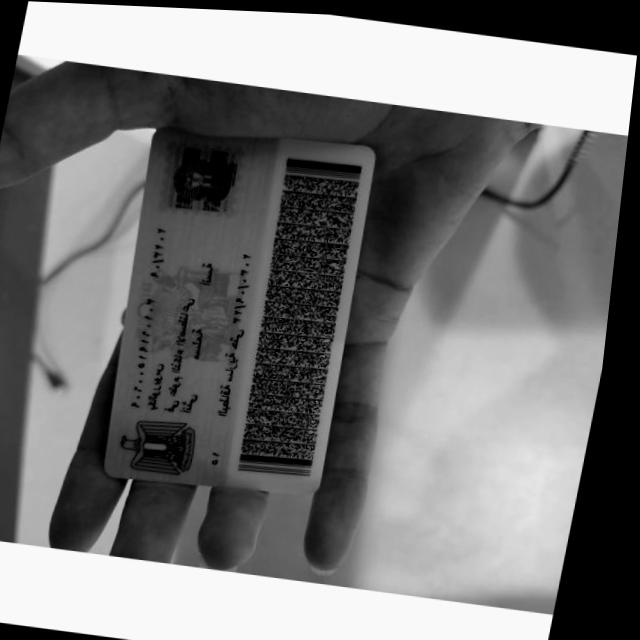back: (103, 130, 373, 493)
